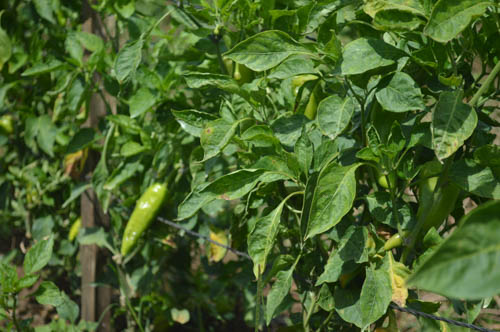ChiliPepper: (118, 185, 170, 257)
